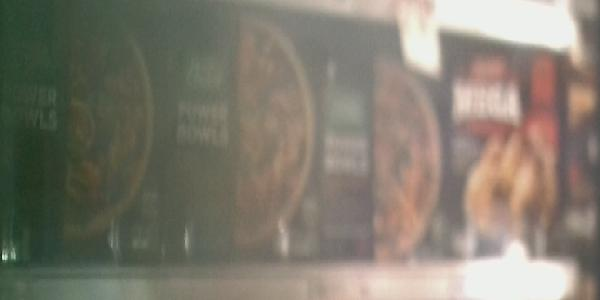pizza1: (1, 1, 170, 268), (170, 4, 317, 267), (319, 50, 448, 265), (446, 34, 566, 254)
